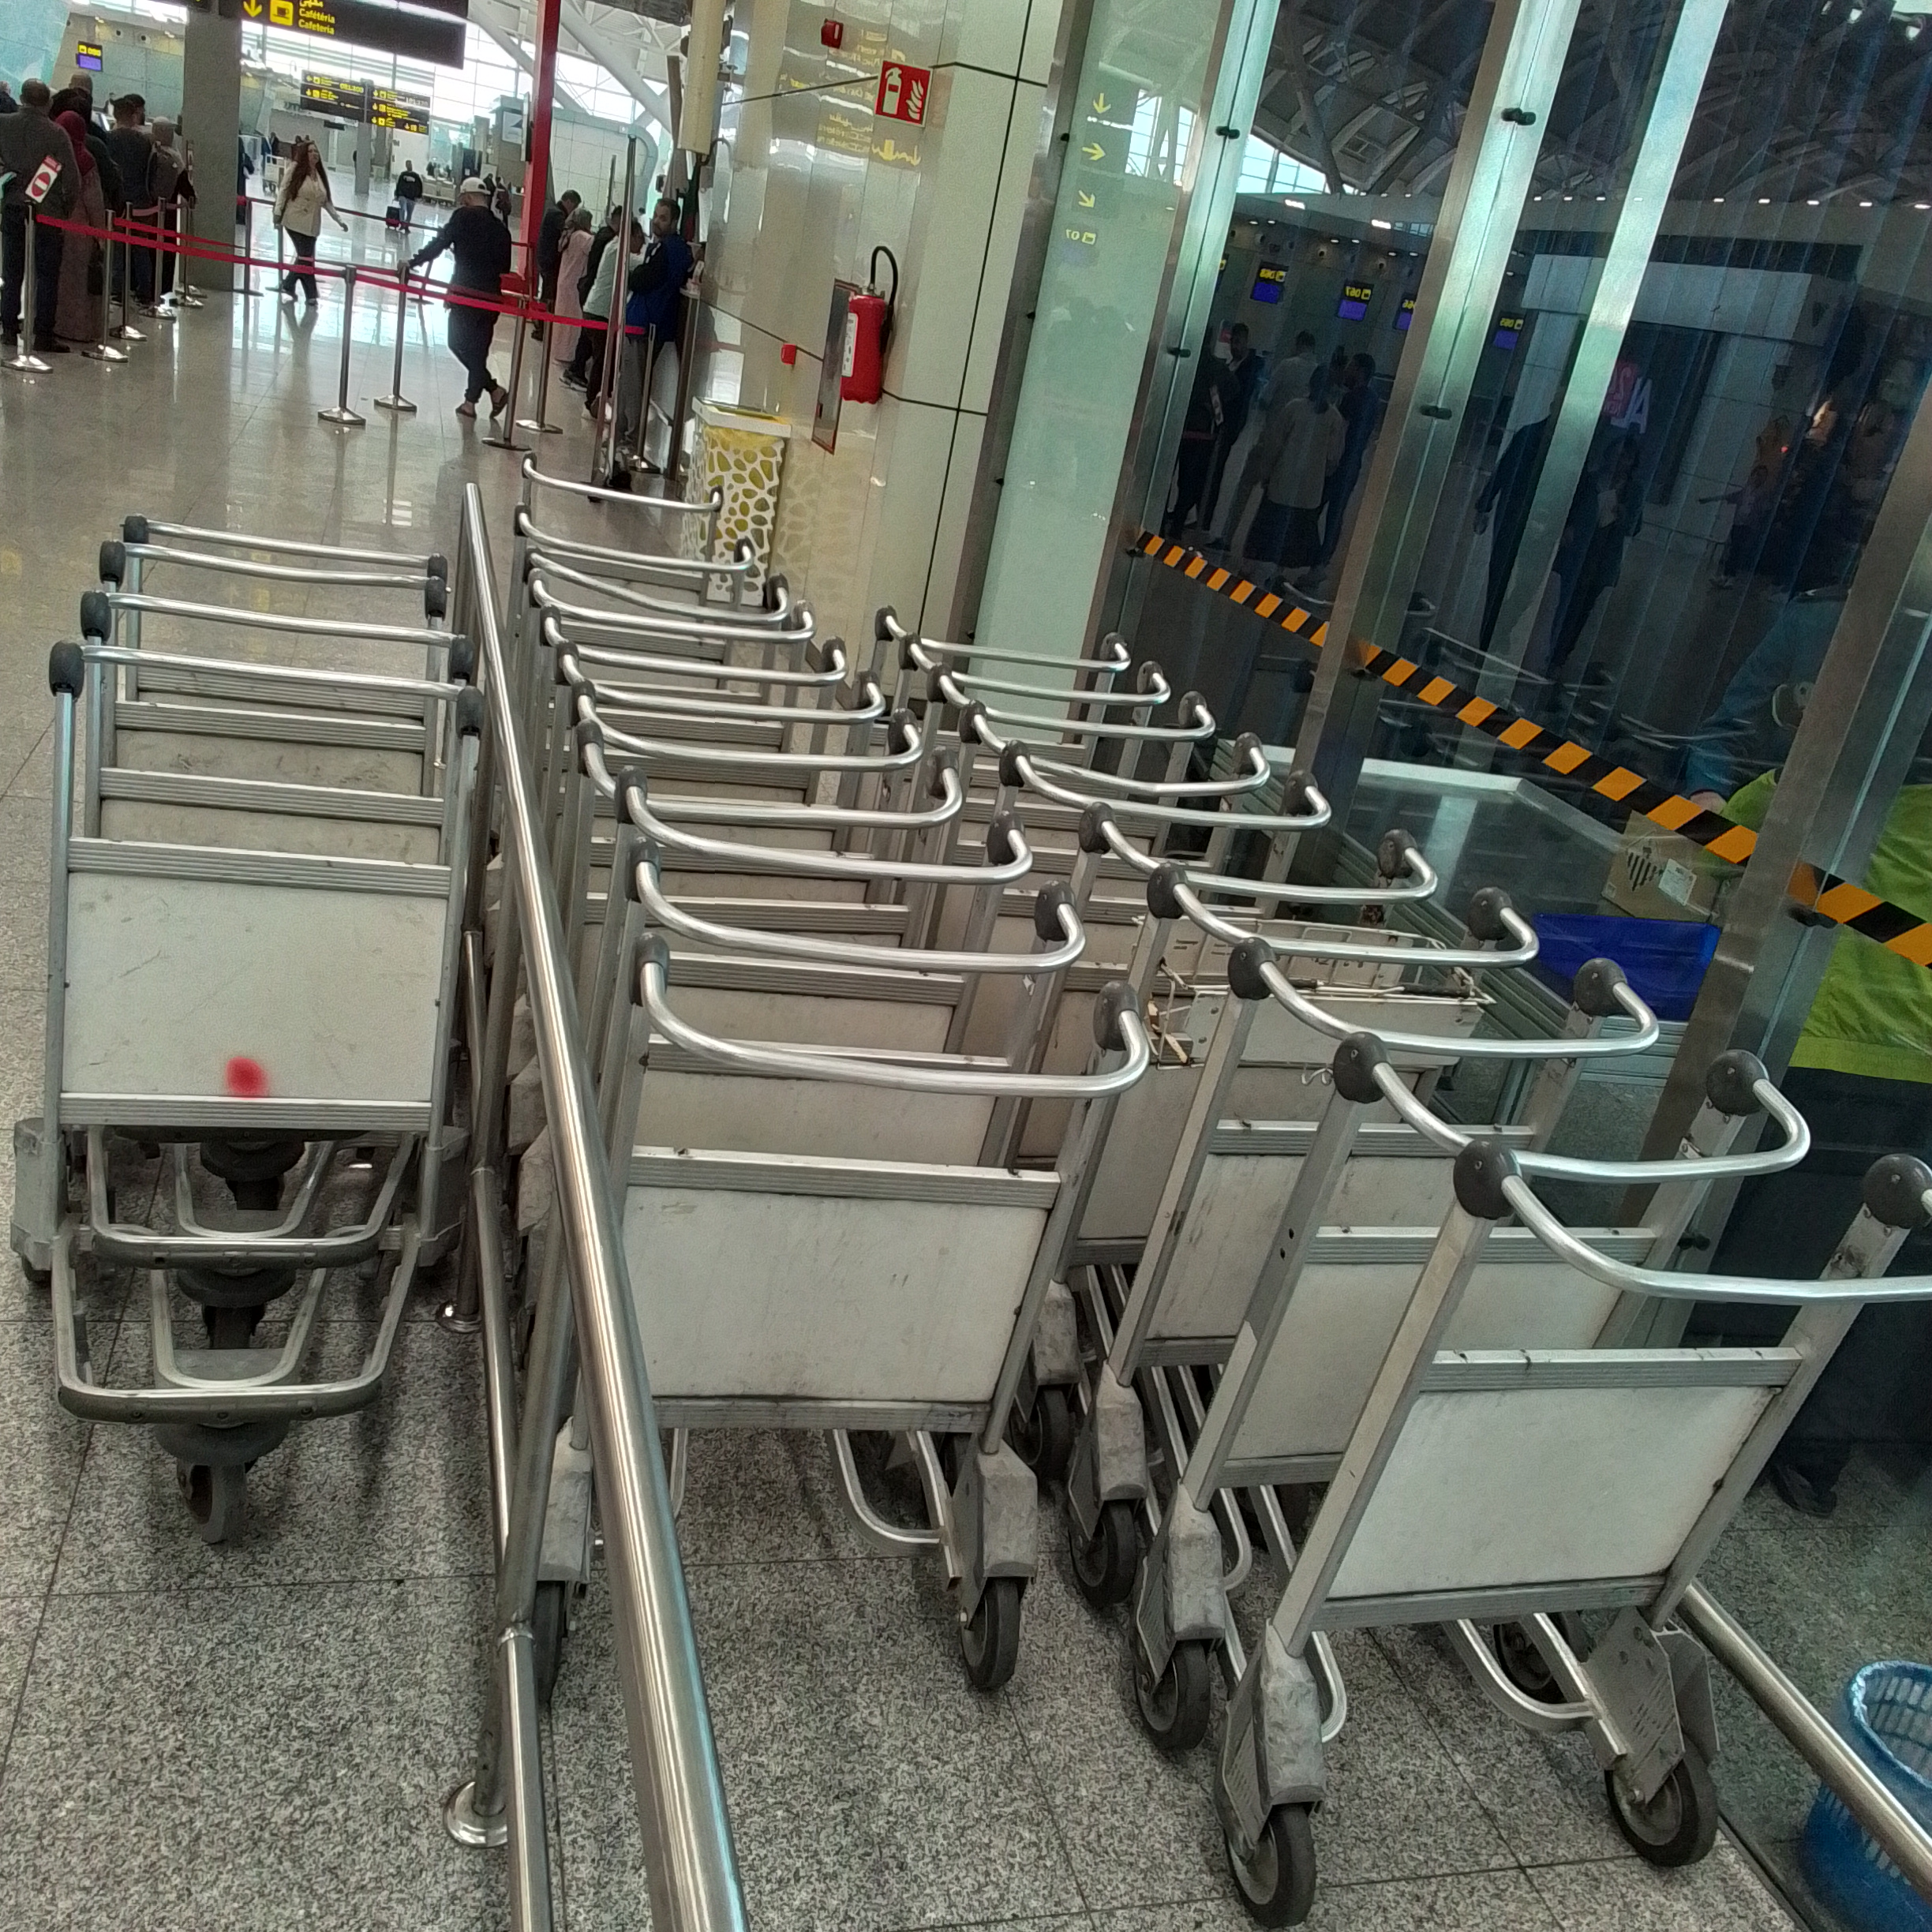airport-trolley: (1180, 1115, 1932, 1867), (640, 982, 1120, 1690), (1180, 1024, 1815, 1543), (65, 665, 476, 1440), (609, 869, 1106, 989), (1214, 929, 1660, 1042), (602, 796, 1024, 904), (579, 731, 985, 817), (78, 584, 462, 671), (104, 506, 462, 596), (563, 653, 860, 761), (1003, 734, 1315, 821), (1132, 826, 1431, 916), (934, 674, 1231, 748), (865, 609, 1162, 683), (515, 540, 773, 609), (536, 609, 821, 671)
